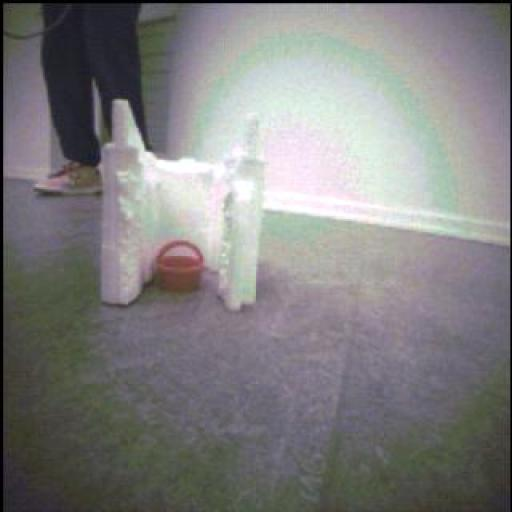Bucket: (157, 236, 206, 294)
